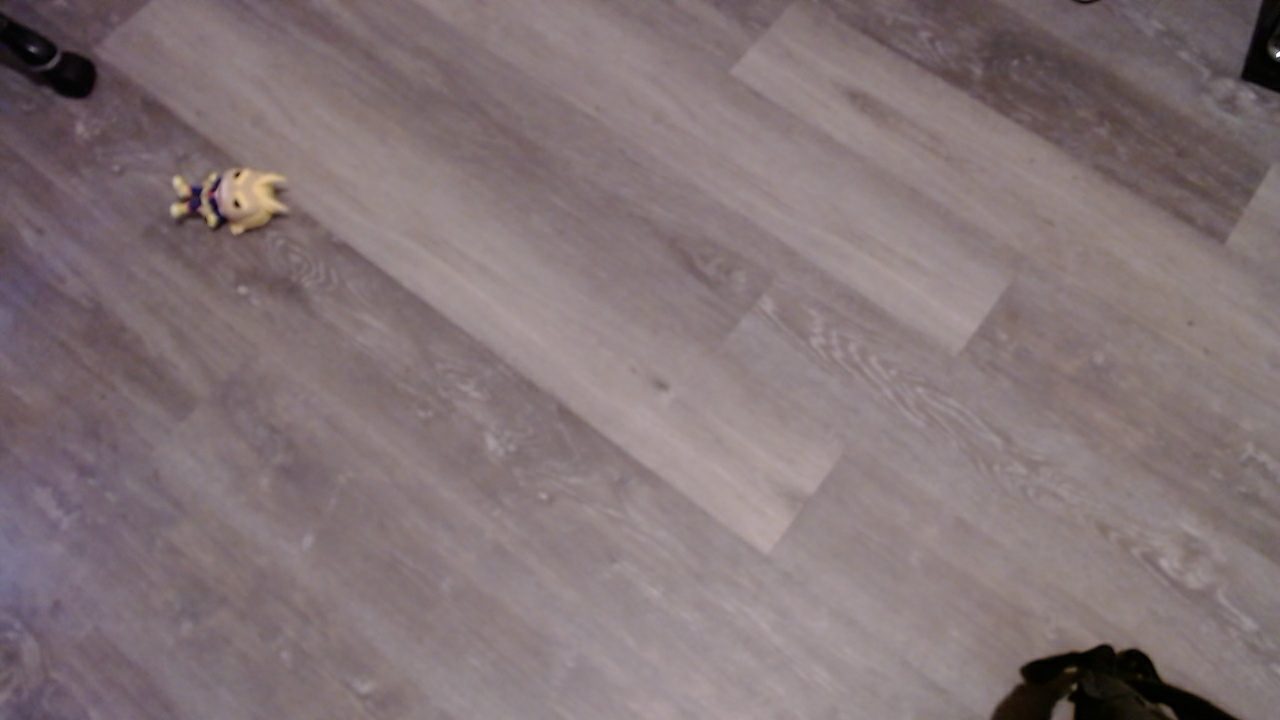all_might: (170, 164, 296, 249)
